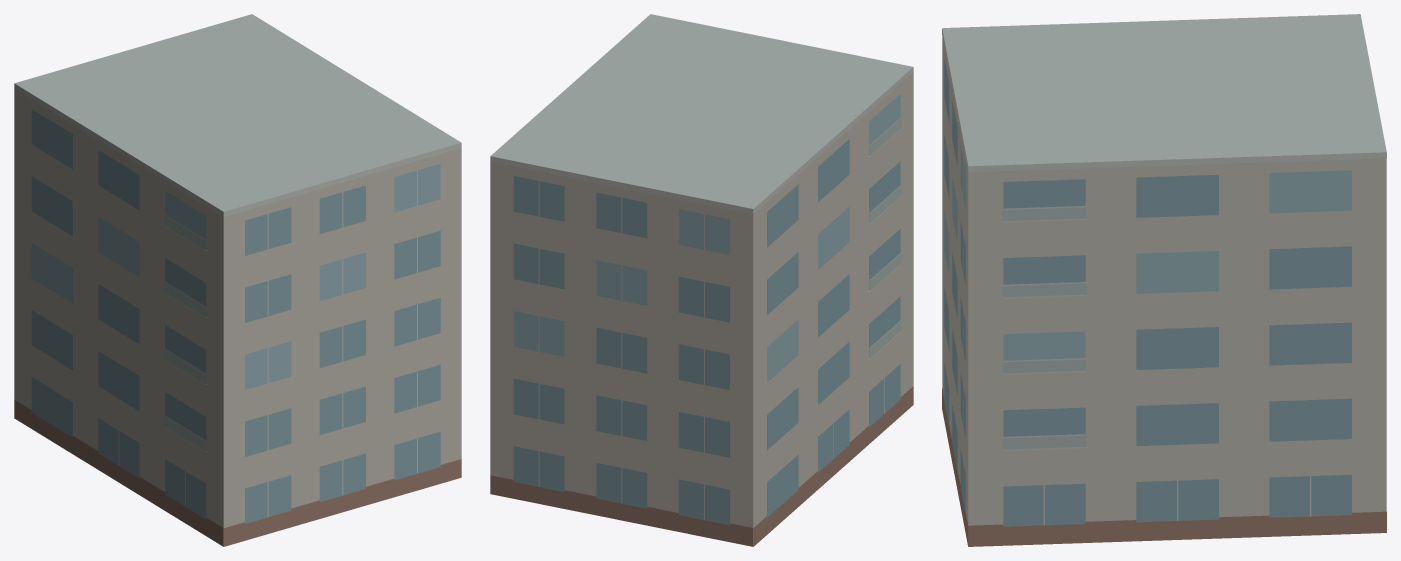
Rendered from survey-upis-32724809.glb.
The picture shows the model from 3 angles, left to right: view 1: azimuth 30°, elevation 25°; view 2: azimuth 150°, elevation 25°; view 3: azimuth 270°, elevation 25°; orthographic projection. The views are drawn at different scales.
Parts seen in each view (by area): view 1: survey-upis-32724809.tmp; view 2: survey-upis-32724809.tmp; view 3: survey-upis-32724809.tmp.
Part boxes in pixels (x1,y1,x2,y2): survey-upis-32724809.tmp: (14,14,461,546); survey-upis-32724809.tmp: (490,14,913,546); survey-upis-32724809.tmp: (942,14,1386,546).
Bounding box in the file's own units: 13.23 × 15.4 × 16.32.
